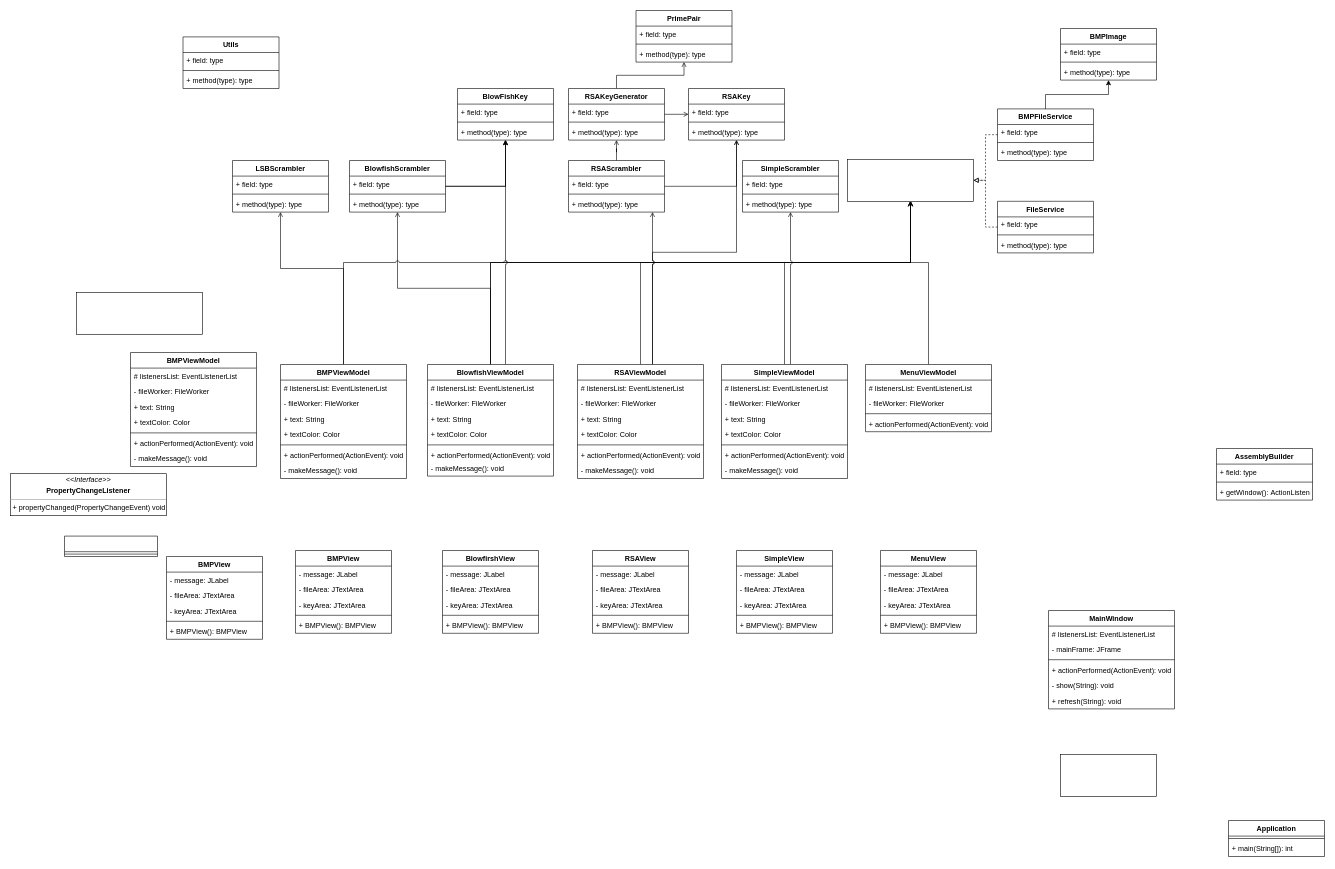
Some shapes in this 1335 by 869 pixel diagram are drawn without their labels. The centre of each missing label's shape, as x and y in pixels:
"<<Interface>> ActionListener + actionPerformed(ActionEvent) void" belongs at (x=139, y=313).
"<<Interface>> FileWorker + actionPerformed(ActionEvent) void" belongs at (x=910, y=180).
"<<Interface>> Window + show ( ) void" belongs at (x=1108, y=775).
"JPanel" belongs at (x=111, y=546).
